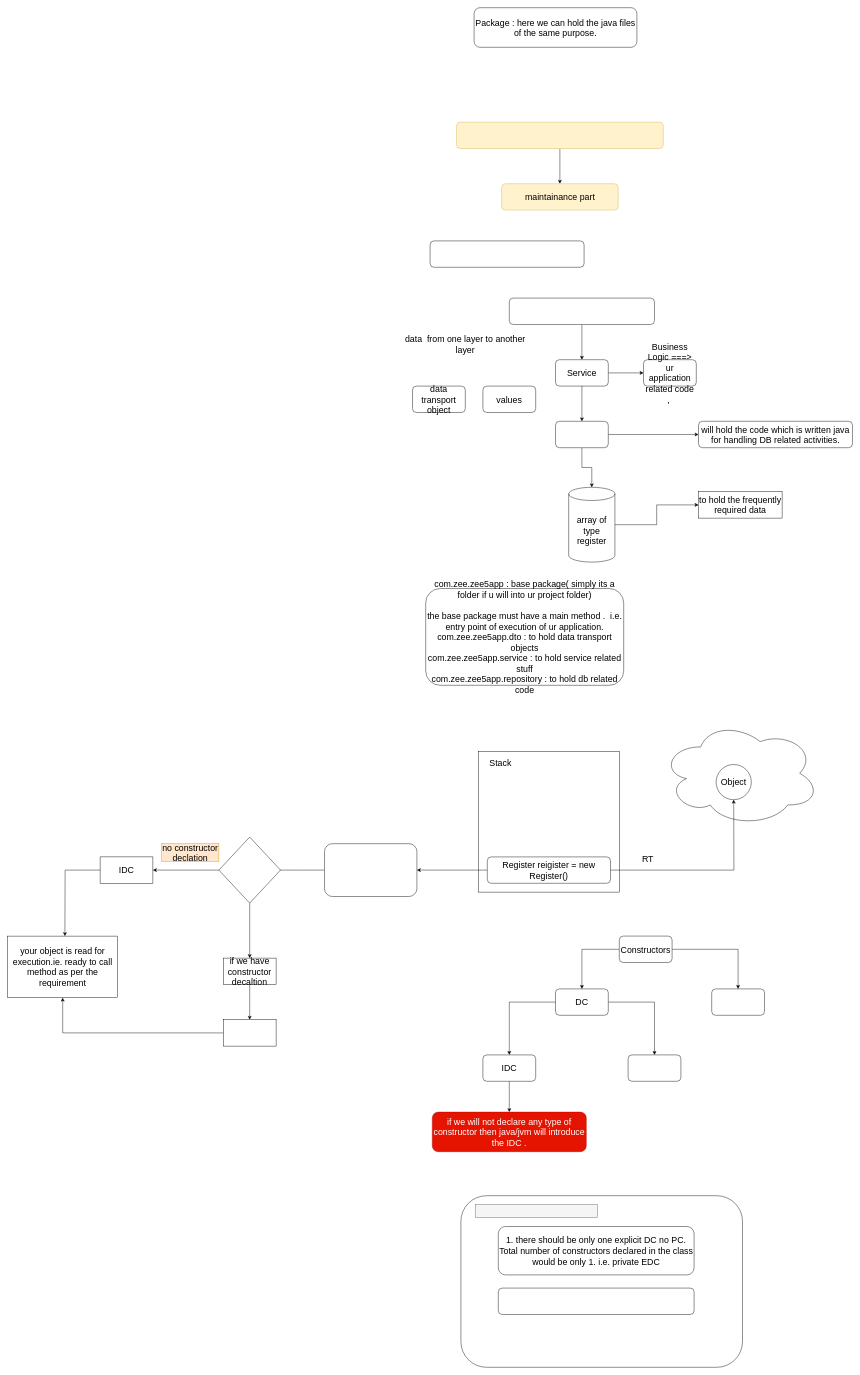
This 860x1375 diagram has some shape labels left out. The shapes that lost their labels are listed below. From the top down, each one's centre as x and y in pixels, then its label:
At pixel 559 135: "can we write a complete java application code in a main method?".
At pixel 507 253: "Layered Architecture".
At pixel 581 311: "main(it will handle the complete execution of ur application.".
At pixel 581 434: "repository".
At pixel 249 870: "will call constructor".
At pixel 370 869: "jvm will allocate the memory in heap for the specific object".
At pixel 737 1001: "PC".
At pixel 249 1032: "will call EDC or PDC".
At pixel 654 1067: "EDC".
At pixel 536 1211: "Singleton DP".
